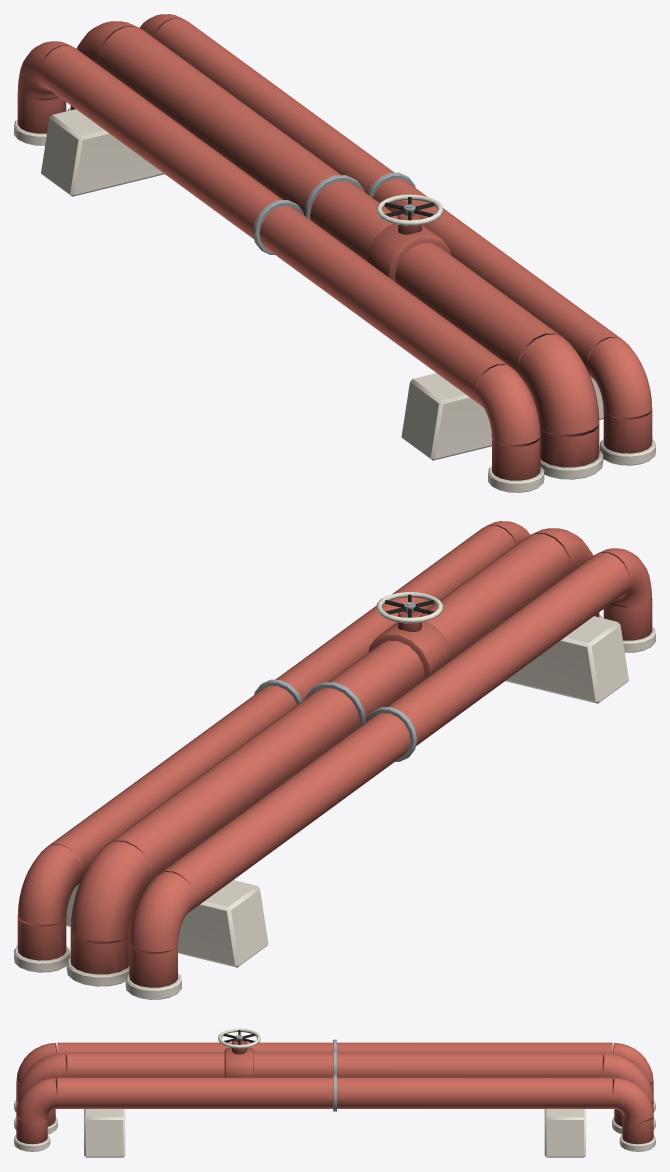
File: pipes_s.glb
3 views of the same model, one above another, from view 1: azimuth 30°, elevation 25°; view 2: azimuth 150°, elevation 25°; view 3: azimuth 270°, elevation 25° (orthographic). The views are drawn at different scales.
Visible parts, largest first — view 1: PART; view 2: PART; view 3: PART.
Part boxes in pixels (x1,y1,x2,y2): PART: (14,14,655,492); PART: (14,521,655,999); PART: (14,1028,655,1157).
Bounding box in the file's own units: 1.49 × 1.03 × 6.55.
